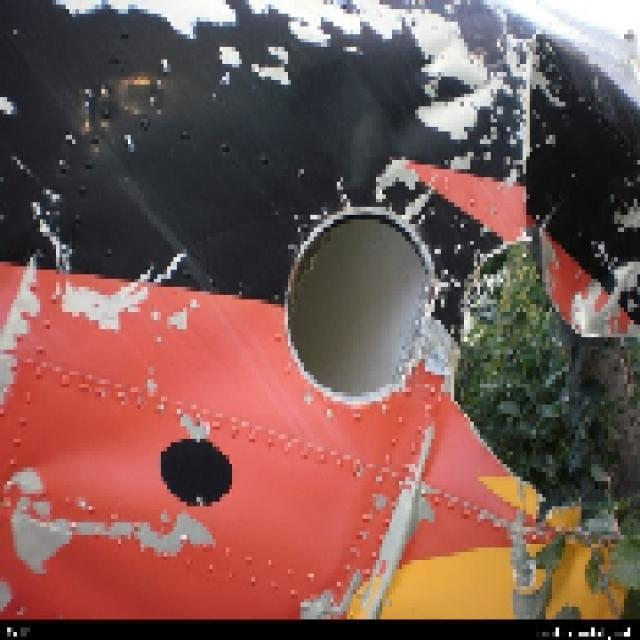dent: (297, 64, 429, 197), (9, 421, 153, 493)
